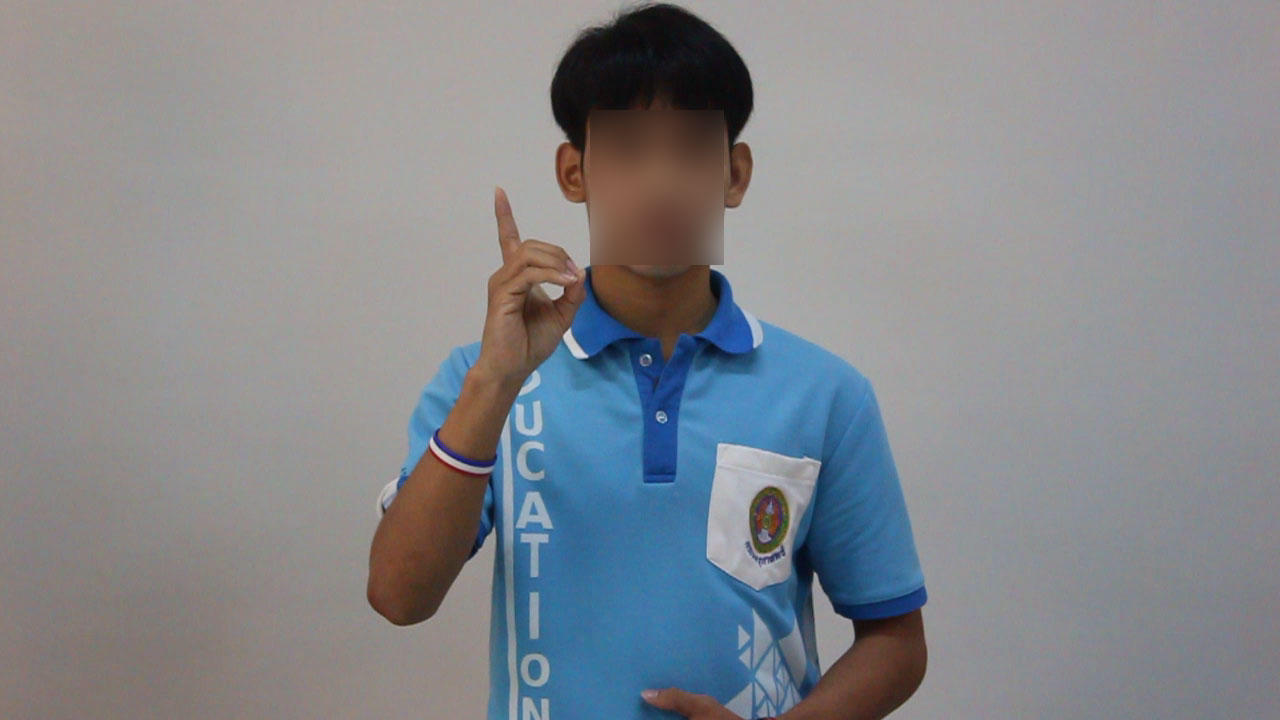dor: (460, 178, 596, 374)
